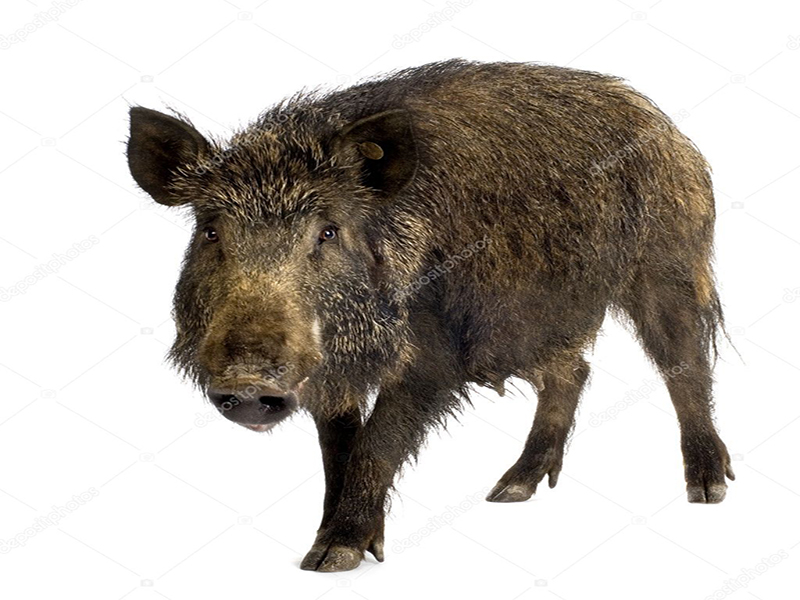cinghiale: (118, 53, 748, 575)
